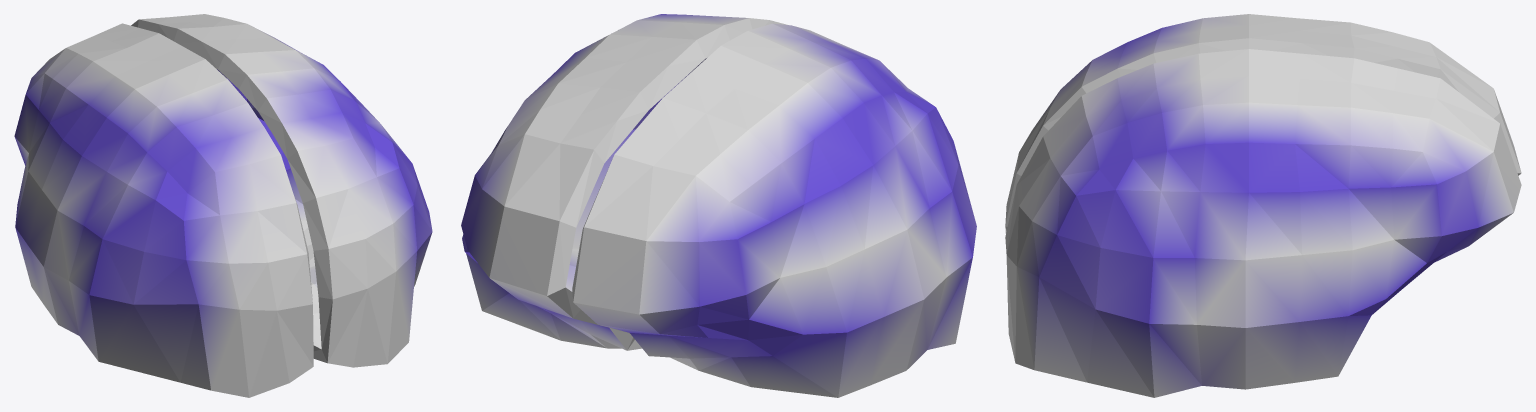
Rendered from brain1.dae.
3 renders of one model, left to right at view 1: azimuth 30°, elevation 25°; view 2: azimuth 150°, elevation 25°; view 3: azimuth 270°, elevation 25°, orthographic. The views are drawn at different scales.
Parts seen in each view (by area): view 1: Cube; view 2: Cube; view 3: Cube.
Part boxes in pixels (x1,y1,x2,y2): Cube: (14, 14, 432, 397); Cube: (461, 14, 976, 397); Cube: (1005, 14, 1521, 397).
Size of the model in its own units: 6.77 by 7.72 by 4.81.
